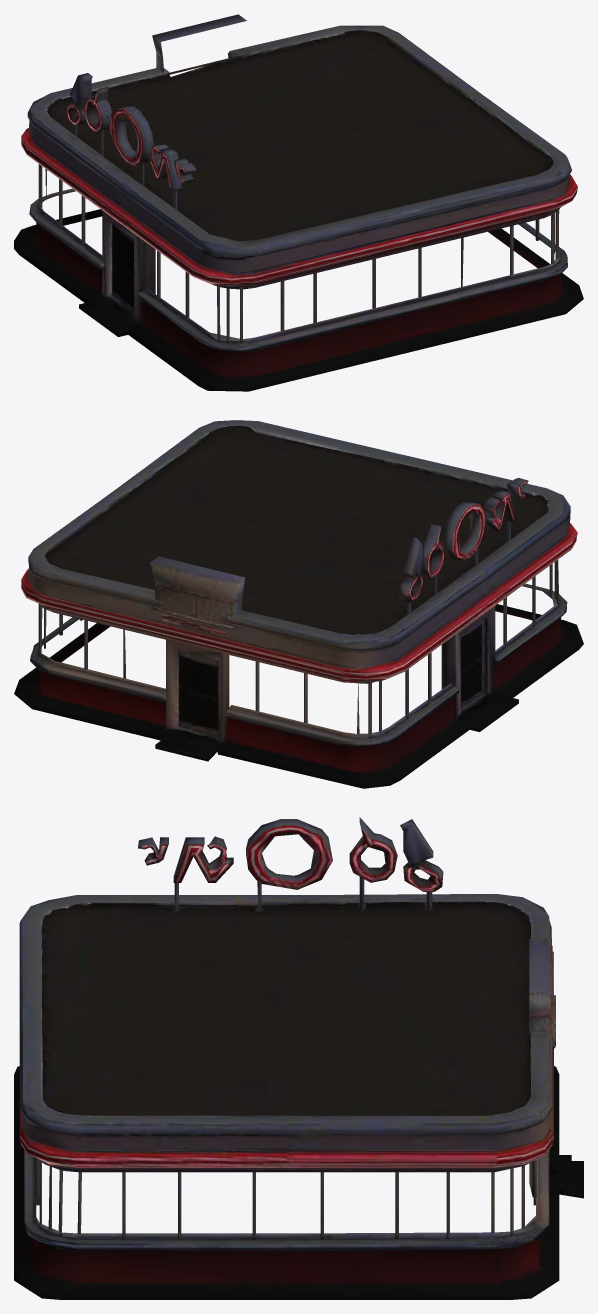
Rendered from diner.glb.
The picture shows the model from 3 angles, top to bottom: view 1: azimuth 30°, elevation 25°; view 2: azimuth 150°, elevation 25°; view 3: azimuth 270°, elevation 25°; orthographic projection. The views are drawn at different scales.
Visible parts, largest first — view 1: diner; view 2: diner; view 3: diner.
Boxes of the visible parts, x1,y1,x2,y2 form: diner: (14,14,583,391); diner: (14,420,583,788); diner: (14,817,583,1299).
Bounding box in the file's own units: 4.97 × 2.5 × 4.97.
Materials: 1 (1 with a texture image).
